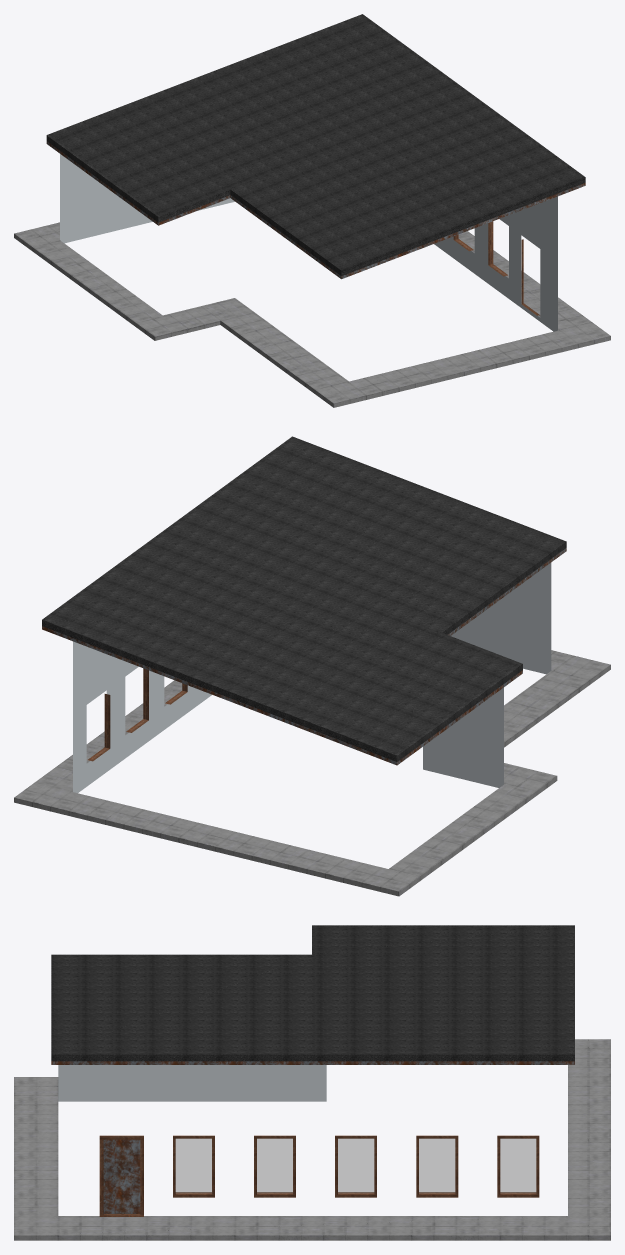
File: graffiti_shop.glb
The picture shows the model from 3 angles, top to bottom: view 1: azimuth 30°, elevation 25°; view 2: azimuth 150°, elevation 25°; view 3: azimuth 270°, elevation 25°; orthographic projection. The views are drawn at different scales.
Visible parts, largest first — view 1: bld; view 2: bld; view 3: bld.
Part boxes in pixels (bbox=[...]): bld: bbox=[14, 14, 610, 407]; bld: bbox=[14, 436, 610, 896]; bld: bbox=[14, 925, 610, 1240].
Bounding box in the file's own units: 12.22 × 5.24 × 15.7.
7 materials, 5 textured.
